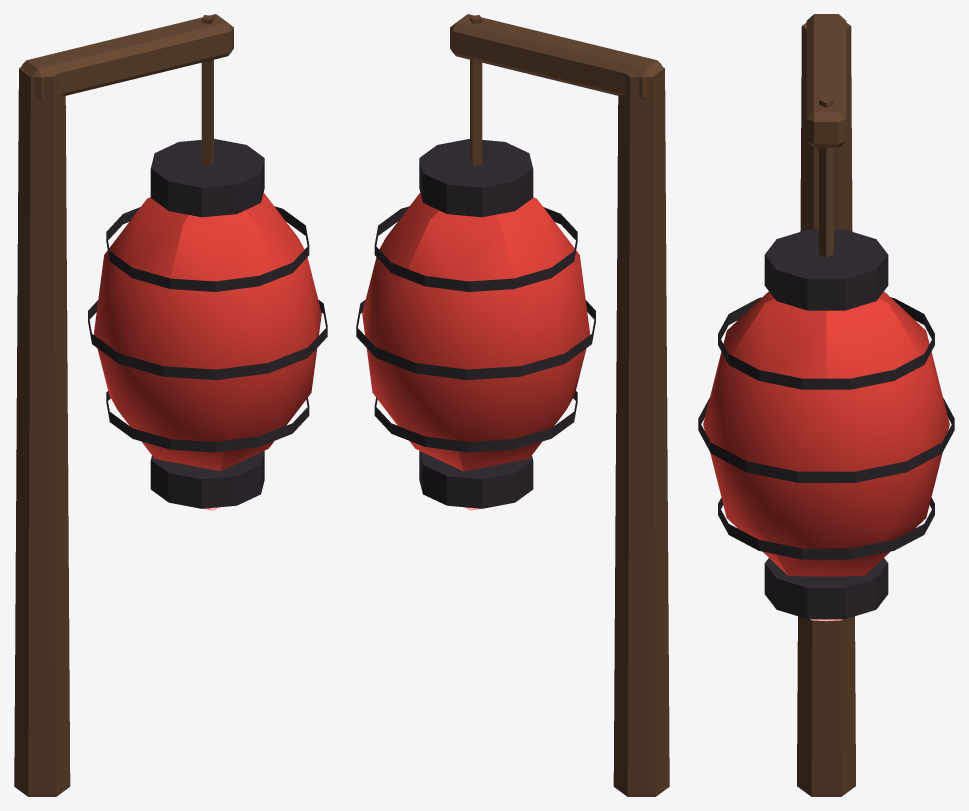
The model's file is PaperLantern.fbx.
3 views of the same model, side by side, from view 1: azimuth 30°, elevation 25°; view 2: azimuth 150°, elevation 25°; view 3: azimuth 270°, elevation 25° (orthographic). The views are drawn at different scales.
Visible parts, largest first — view 1: PaperLantern_BarkDark, PaperLantern_Body, PaperLantern_Ink; view 2: PaperLantern_BarkDark, PaperLantern_Body, PaperLantern_Ink; view 3: PaperLantern_Body, PaperLantern_Ink, PaperLantern_BarkDark.
Part boxes in pixels (<box>): PaperLantern_BarkDark: <box>14,14,233,796</box>; PaperLantern_Body: <box>94,193,321,471</box>; PaperLantern_Ink: <box>88,139,327,508</box>; PaperLantern_BarkDark: <box>450,14,669,796</box>; PaperLantern_Body: <box>362,193,589,471</box>; PaperLantern_Ink: <box>356,139,595,508</box>; PaperLantern_Body: <box>703,291,949,576</box>; PaperLantern_Ink: <box>698,229,954,619</box>; PaperLantern_BarkDark: <box>797,14,855,796</box>.
Bounding box in the file's own units: 143 × 345 × 104.
